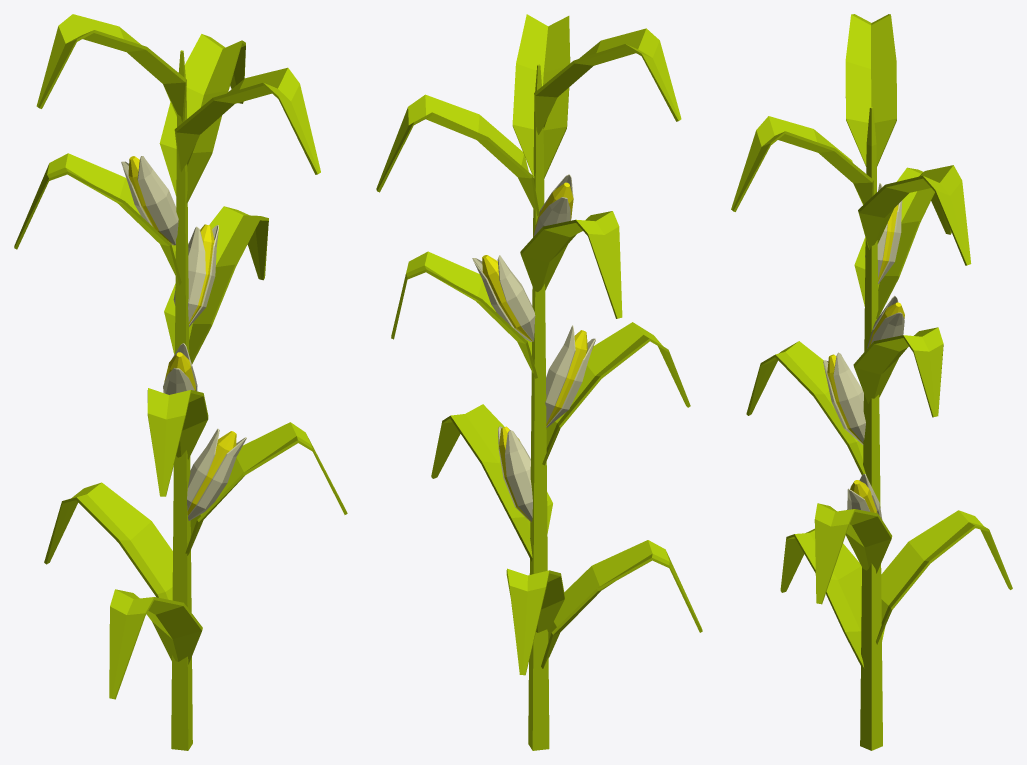
The model's file is corn_low_03_full.fbx.
3 renders of one model, left to right at view 1: azimuth 30°, elevation 25°; view 2: azimuth 150°, elevation 25°; view 3: azimuth 270°, elevation 25°, orthographic. The views are drawn at different scales.
Visible parts, largest first — view 1: Cube, Circle.001; view 2: Cube, Circle.001; view 3: Cube, Circle.001.
Boxes of the visible parts, x1=… form: Cube: x1=14, y1=14, x2=347, y2=750; Circle.001: x1=121, y1=156, x2=246, y2=520; Cube: x1=376, y1=14, x2=702, y2=750; Circle.001: x1=472, y1=174, x2=595, y2=522; Cube: x1=731, y1=14, x2=1012, y2=750; Circle.001: x1=823, y1=183, x2=904, y2=519.
Bounding box in the file's own units: 60.57 × 154 × 57.24.
